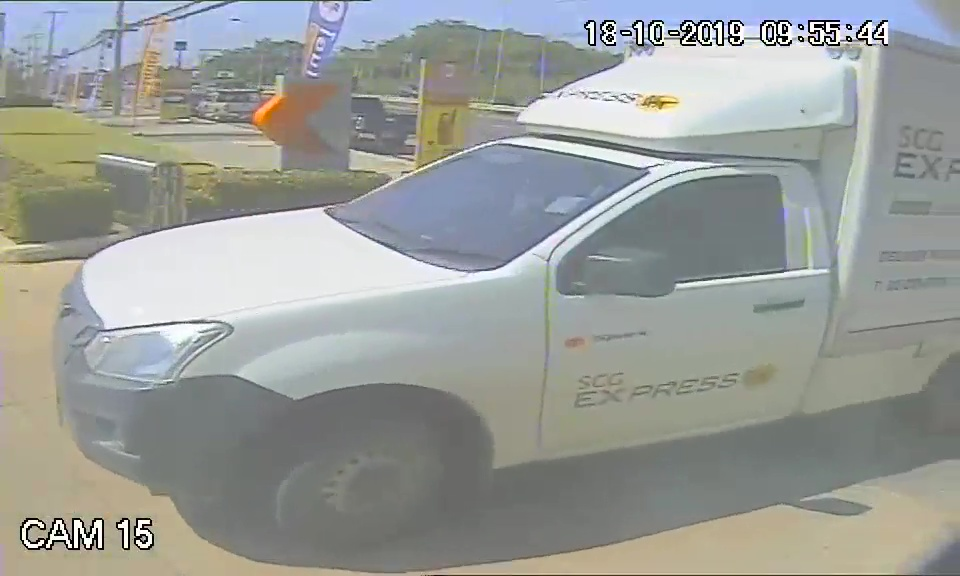pickup: (51, 135, 960, 500)
